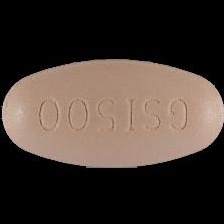68151-5004: (0, 0, 224, 224)
